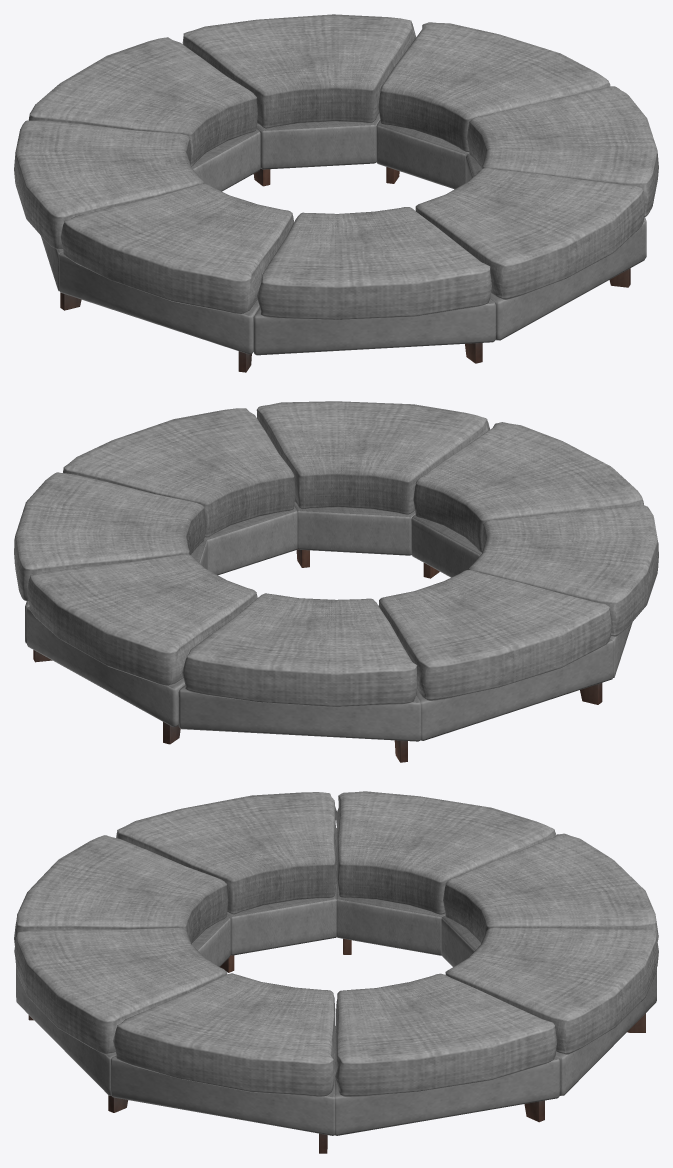
File: Sofa 7.FBX
3 views of the same model, one above another, from view 1: azimuth 30°, elevation 25°; view 2: azimuth 150°, elevation 25°; view 3: azimuth 270°, elevation 25° (orthographic).
Visible parts, largest first — view 1: Sofa 7; view 2: Sofa 7; view 3: Sofa 7.
Part boxes in pixels (x1,y1,x2,y2): Sofa 7: (14, 14, 658, 372); Sofa 7: (14, 401, 658, 762); Sofa 7: (14, 791, 658, 1153).
Bounding box in the file's own units: 346 × 58.89 × 346.
